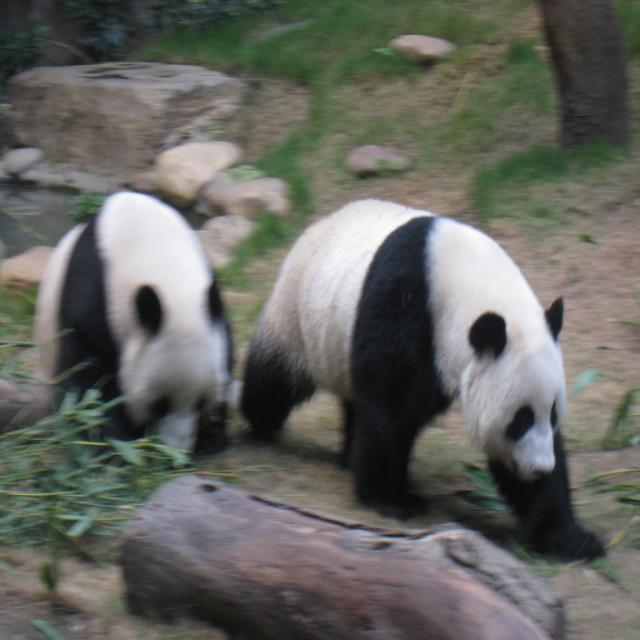panda: (238, 196, 608, 559), (28, 192, 232, 465)
